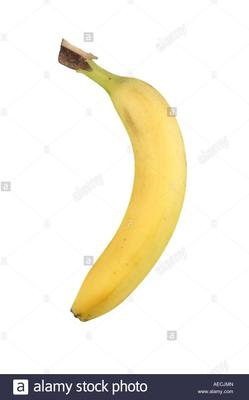banana: (0, 0, 249, 400)
